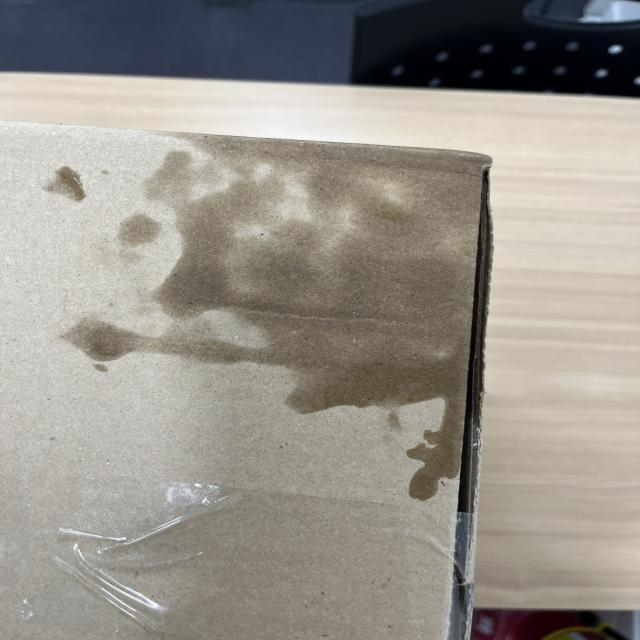wet: (115, 136, 497, 488)
